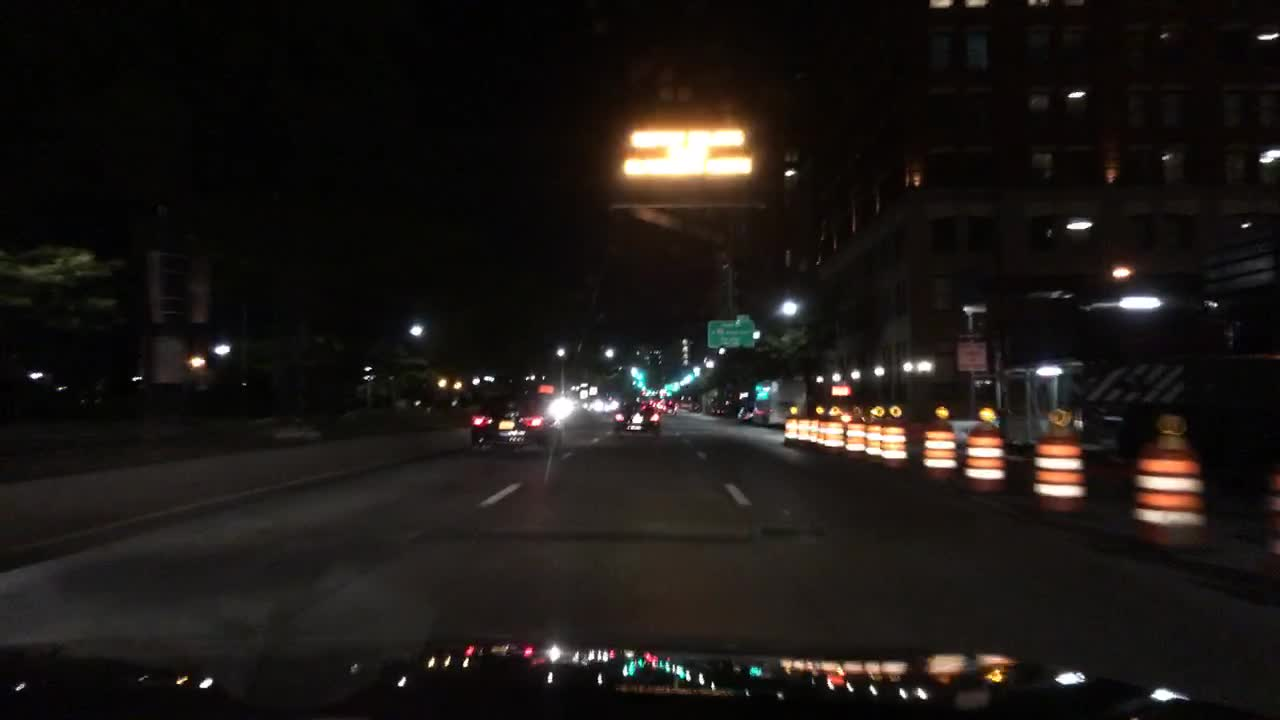car: (469, 393, 568, 453), (246, 416, 323, 450), (118, 413, 202, 442), (613, 397, 662, 434), (547, 394, 581, 420), (586, 392, 622, 412), (732, 400, 754, 421), (656, 398, 676, 416), (711, 400, 728, 415), (686, 399, 701, 408)
traffic light: (634, 379, 645, 392), (661, 383, 671, 392), (636, 370, 643, 379)
traffic sign: (706, 321, 757, 349), (957, 332, 989, 373), (831, 388, 853, 397), (536, 383, 554, 394), (736, 307, 751, 320)
